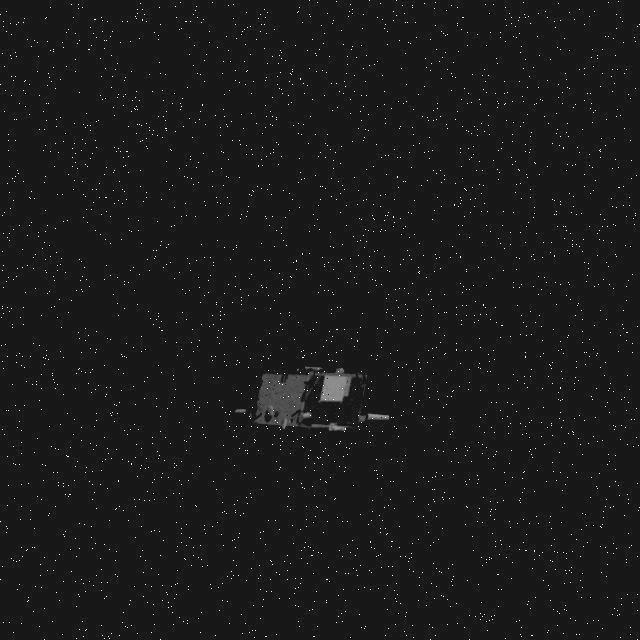satellite: (238, 354, 408, 450)
